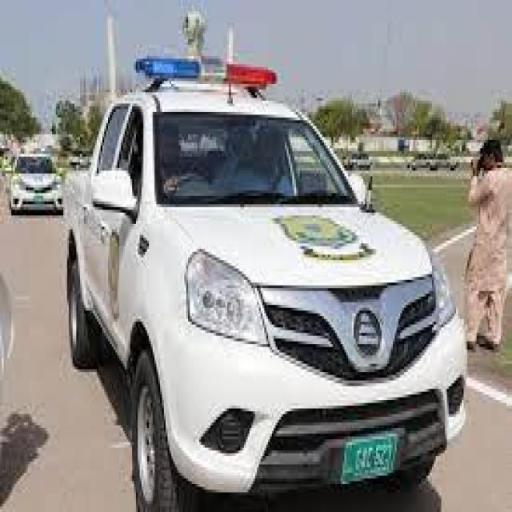Ambulance: (67, 50, 473, 512)
